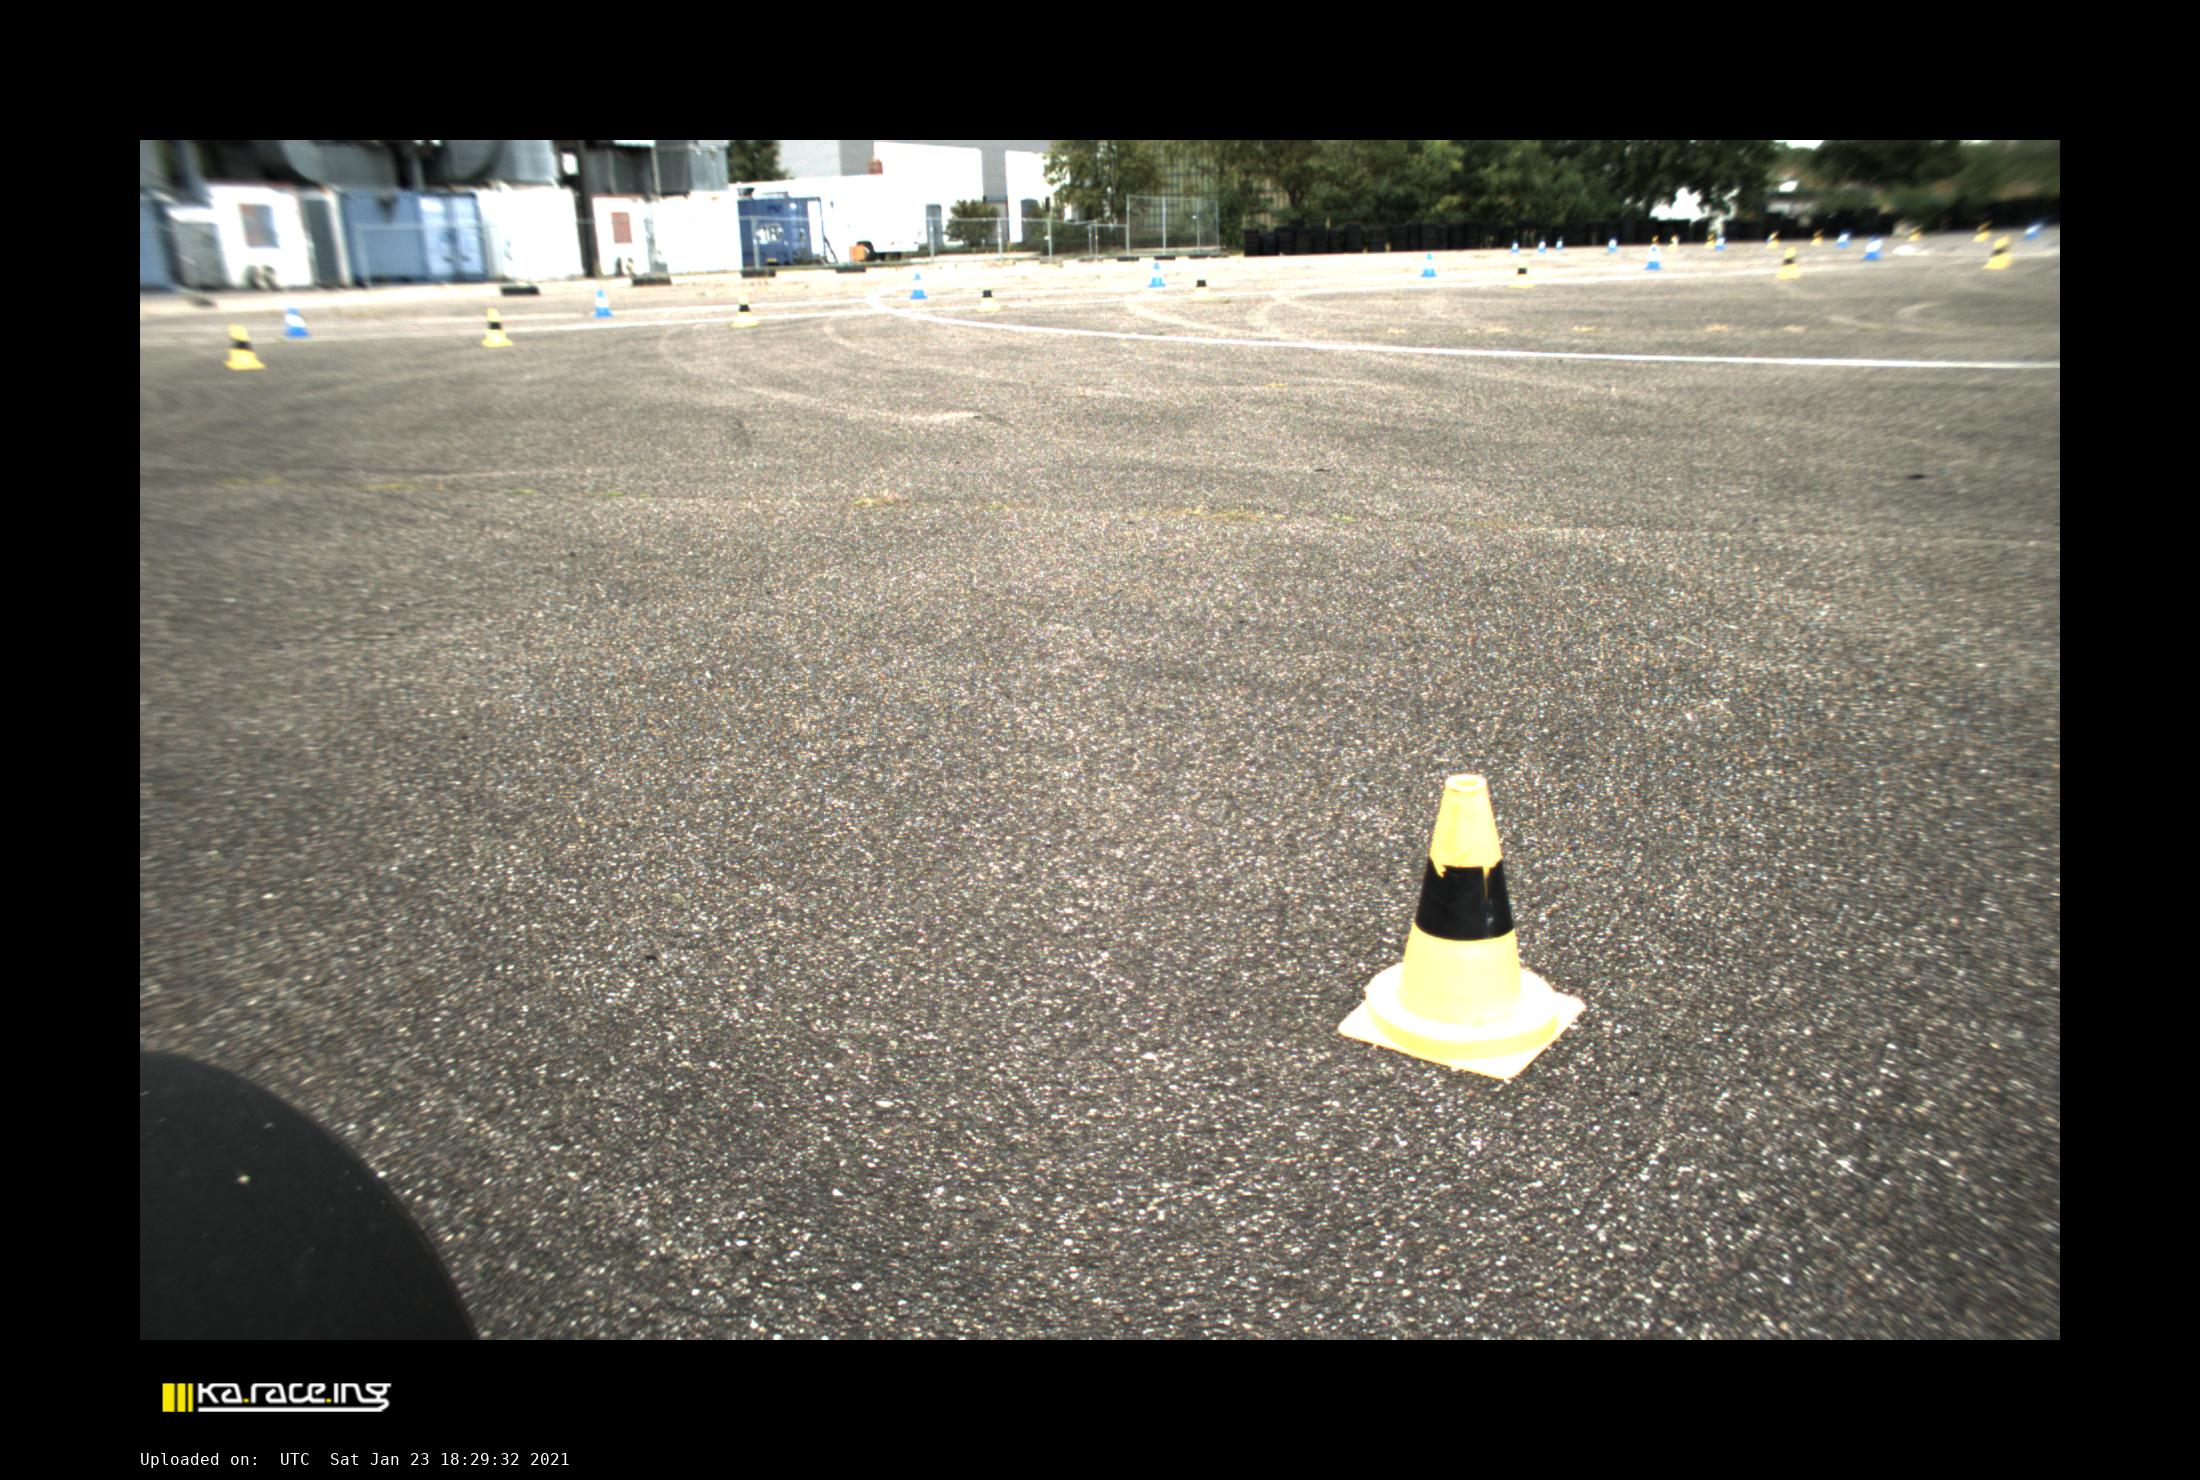blue_cone: (281, 307, 312, 339), (593, 291, 614, 319), (1146, 263, 1166, 287), (908, 273, 927, 299), (2023, 220, 2045, 241), (1861, 236, 1881, 259), (1420, 253, 1437, 277), (1643, 248, 1662, 269), (1835, 231, 1852, 248), (1607, 236, 1619, 253), (1714, 235, 1726, 251), (1538, 238, 1548, 254), (1510, 240, 1520, 254), (1554, 238, 1564, 251)
yellow_cone: (1338, 775, 1586, 1079), (223, 324, 268, 370), (482, 309, 514, 345), (1980, 235, 2012, 269), (732, 292, 760, 327), (974, 281, 1001, 312), (1189, 271, 1214, 301), (1777, 248, 1800, 279), (1510, 259, 1533, 287), (1972, 221, 1990, 243), (1766, 231, 1779, 249), (1667, 235, 1680, 251), (1810, 230, 1823, 246), (1908, 225, 1921, 241), (1705, 233, 1714, 248), (1648, 235, 1658, 248)
